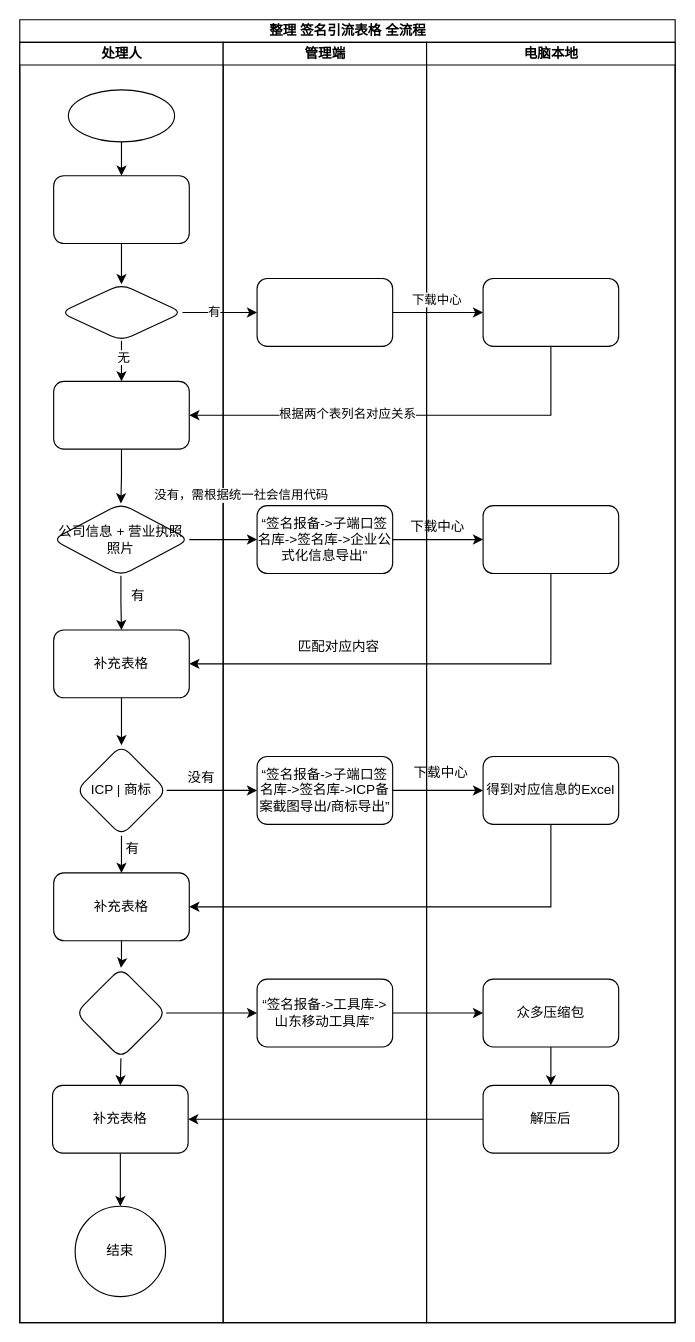
Some shapes in this 695 by 1342 pixel diagram are drawn without their labels. The shapes that lost their labels are listed below. From the top down, each one's centre as x and y in pixels, then its label:
At (121,115): "开始".
At (121,209): "需补充材料的Excel / 打捞未报备签名".
At (120,312): "有打捞的签名".
At (324,311): "“签名报备->子端口签名库->签名库->导出签名报备资质”".
At (550,311): "对应签名报备资料Excel".
At (121,414): "补充至自动报备表格".
At (550,539): "找到公司信息Excel".
At (120,1012): "链接域名 + 号码 授权函".
